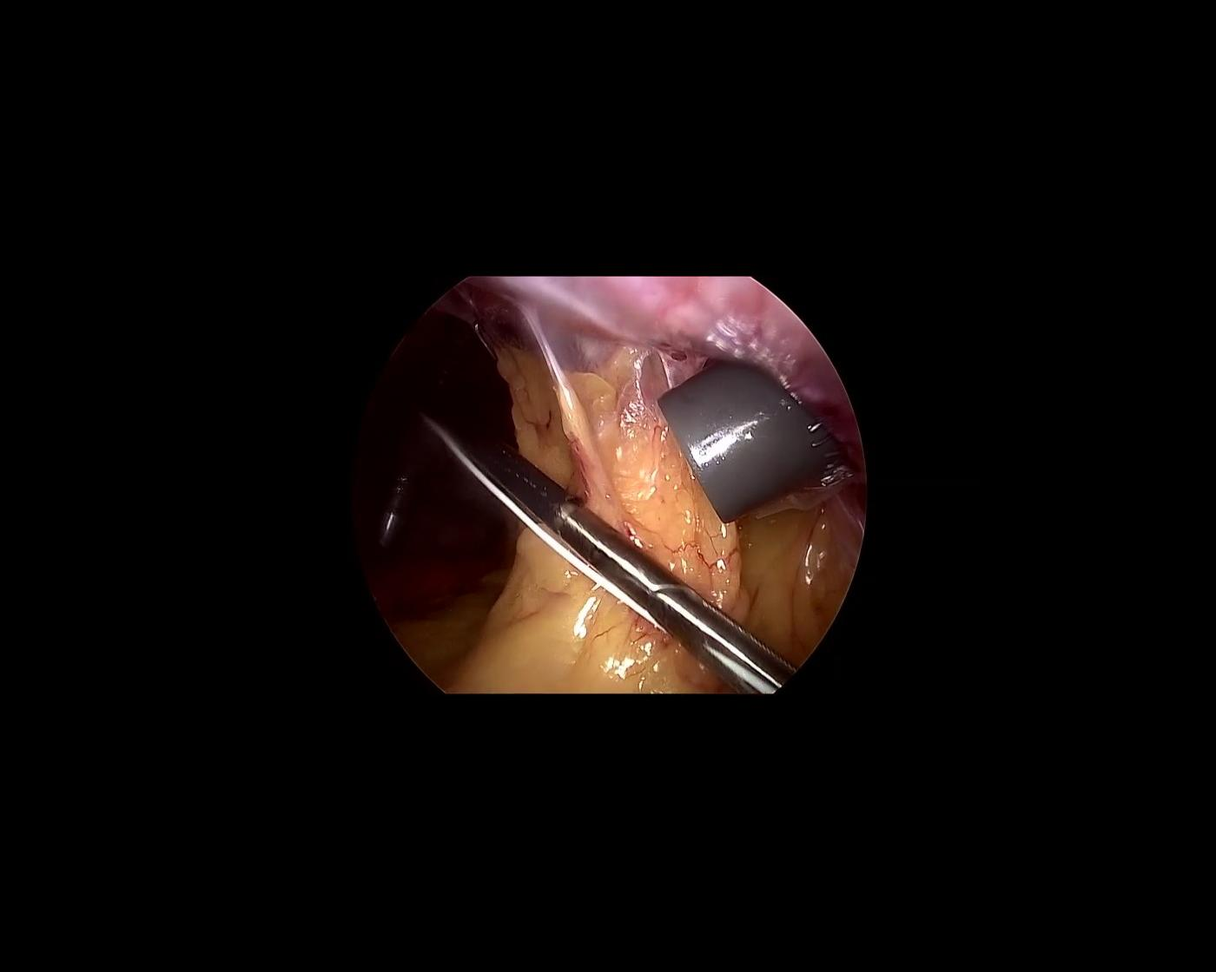Forceps: (392, 390, 802, 716)
